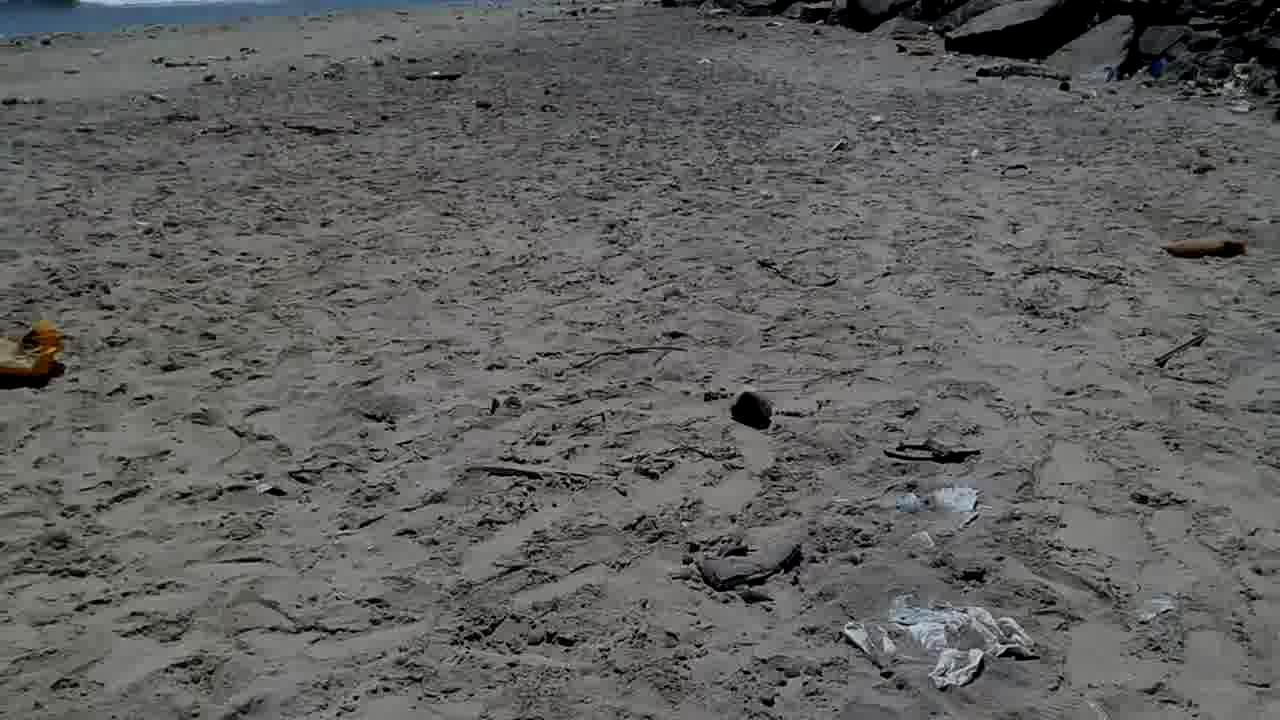obj: (841, 596, 1038, 687), (0, 319, 61, 385)
sand/background: (737, 0, 1279, 140), (0, 0, 453, 50)
